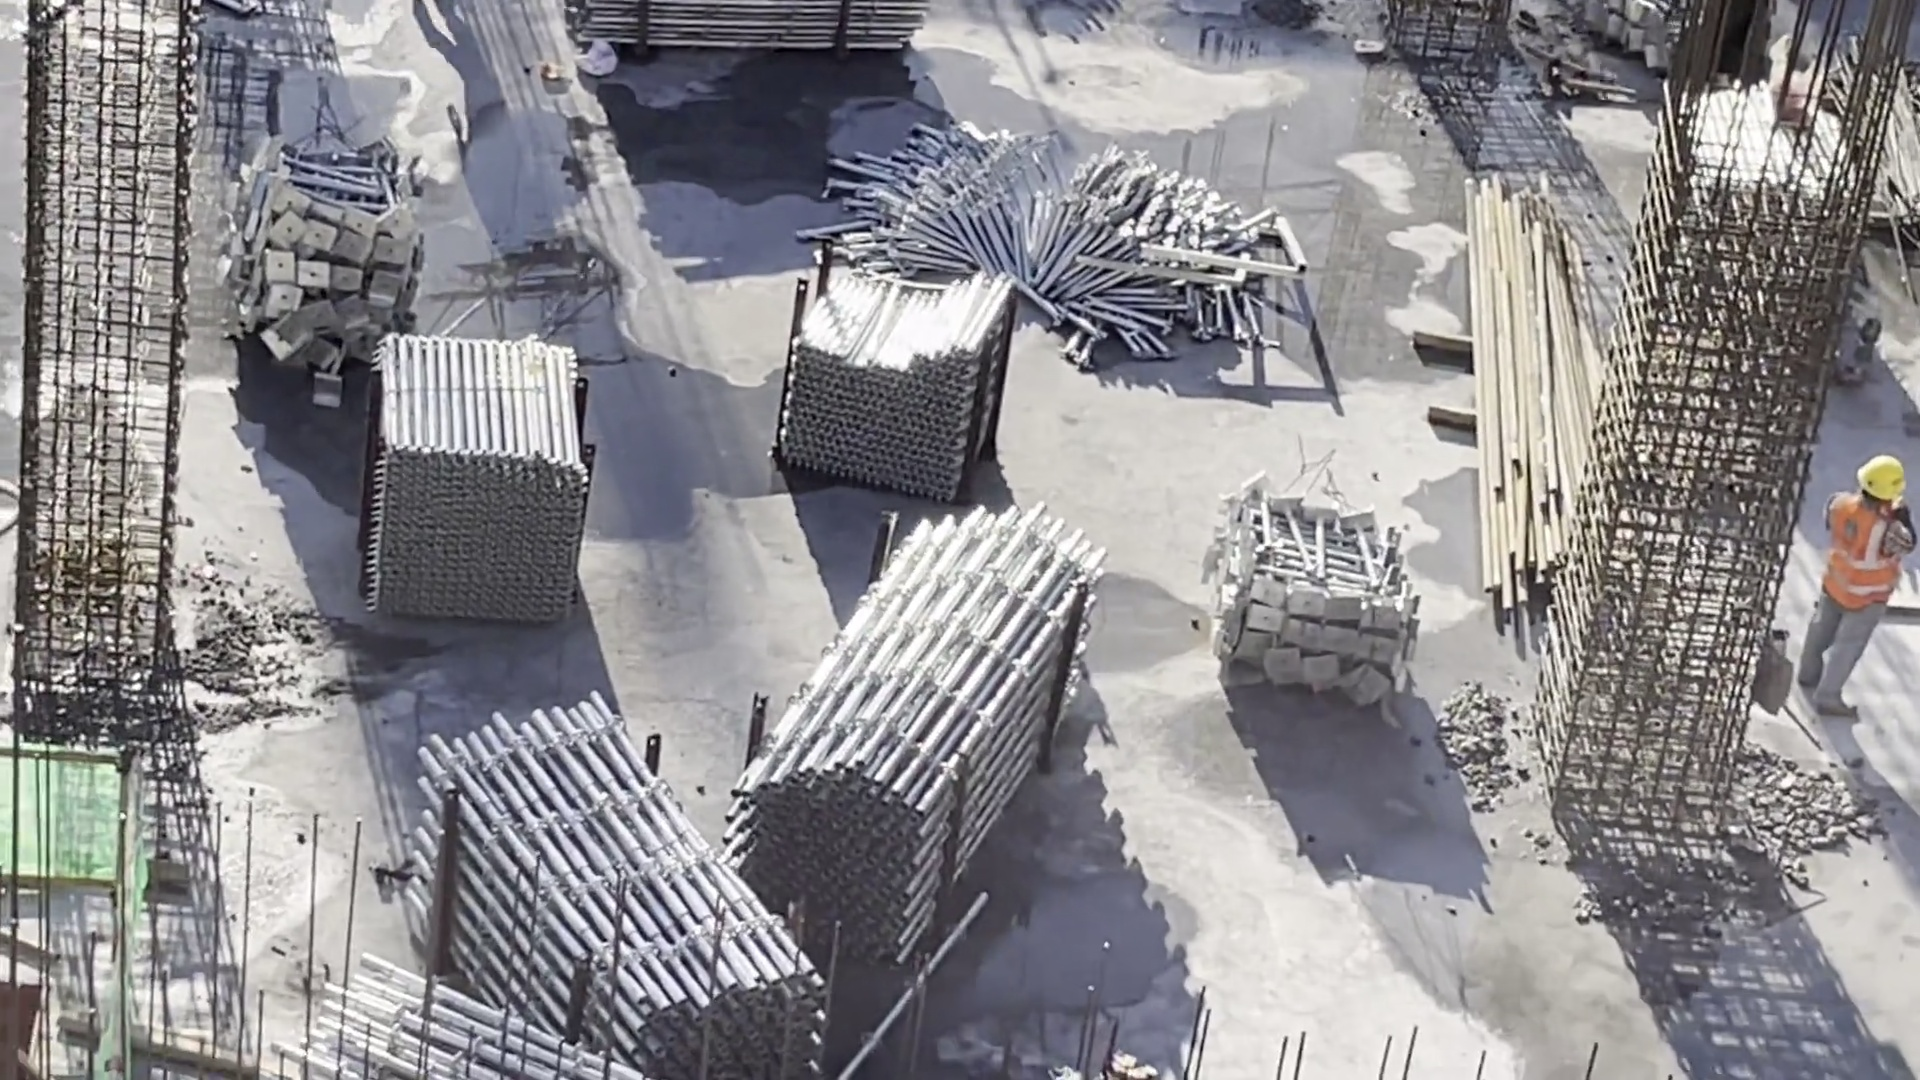helmet: (1855, 448, 1908, 500)
person: (1799, 438, 1912, 739)
scaffold: (725, 509, 1109, 941), (416, 708, 839, 1080), (843, 111, 1292, 330), (376, 333, 575, 616), (790, 242, 997, 498), (1197, 485, 1409, 708), (228, 156, 410, 390), (557, 1, 945, 51), (1578, 1, 1687, 55)
vest: (1825, 492, 1899, 611)
